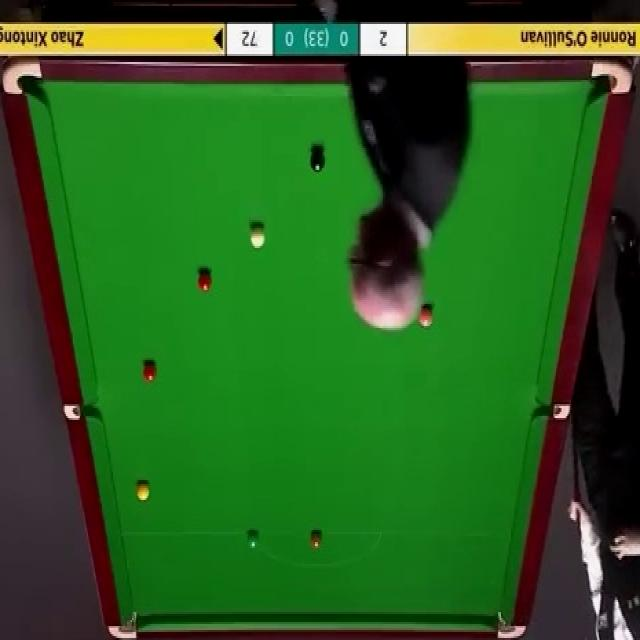pocket: (0, 56, 43, 98), (592, 55, 630, 97), (490, 604, 524, 638), (108, 608, 138, 640), (64, 403, 100, 422), (535, 405, 573, 420)
